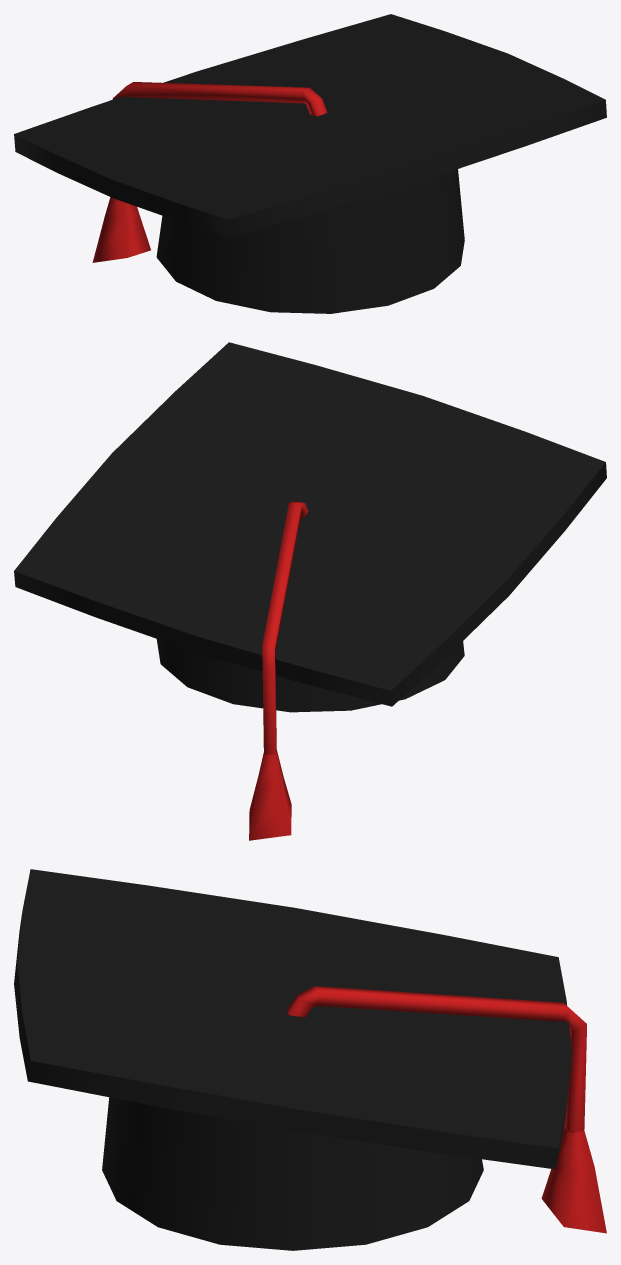
The model's file is m_BachelorHat01.fbx.
3 renders of one model, top to bottom at view 1: azimuth 30°, elevation 25°; view 2: azimuth 150°, elevation 25°; view 3: azimuth 270°, elevation 25°, orthographic. The views are drawn at different scales.
Parts seen in each view (by area): view 1: m_BachelorHat01; view 2: m_BachelorHat01; view 3: m_BachelorHat01.
Boxes of the visible parts, left/top/right/bottom form: m_BachelorHat01: left=14, top=14, right=606, bottom=313; m_BachelorHat01: left=14, top=342, right=606, bottom=840; m_BachelorHat01: left=14, top=869, right=606, bottom=1250.
Bounding box in the file's own units: 6.42 × 4.1 × 6.78.
